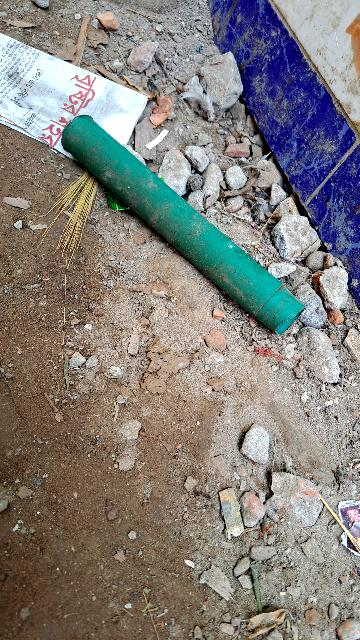hardplastic: (49, 98, 321, 346)
